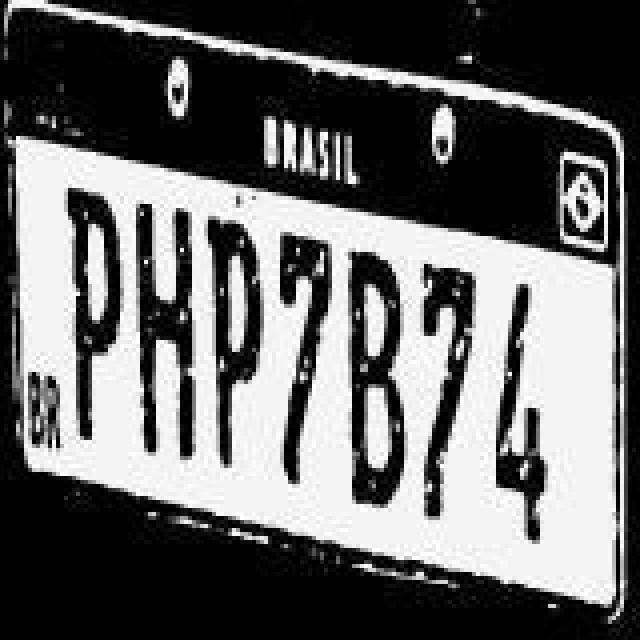4: (492, 286, 548, 546)
7: (420, 264, 476, 520), (276, 234, 332, 486)
B: (346, 246, 406, 506)
H: (134, 200, 194, 464)
P: (66, 184, 126, 440), (202, 216, 262, 472)
